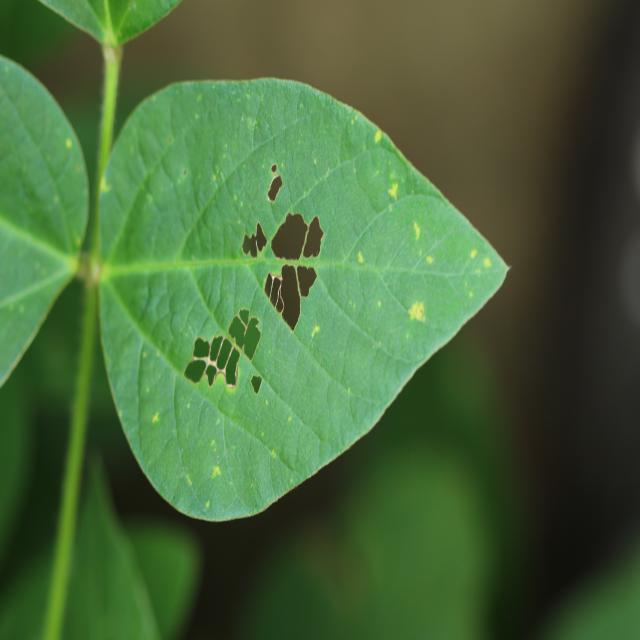Soybean: (0, 55, 510, 526)
downey_mildew: (99, 92, 274, 465), (313, 6, 606, 167), (42, 45, 120, 632), (299, 173, 493, 395), (18, 4, 190, 252), (316, 441, 497, 637), (1, 52, 88, 383), (179, 105, 349, 266), (232, 277, 372, 455), (397, 340, 516, 520), (58, 454, 171, 636), (171, 378, 289, 518), (255, 83, 452, 160), (8, 243, 298, 291), (229, 532, 353, 638), (522, 529, 640, 636), (115, 261, 221, 380), (122, 78, 308, 145), (361, 194, 484, 294), (315, 260, 413, 373), (278, 156, 378, 255), (50, 279, 99, 481), (122, 517, 203, 638), (115, 151, 200, 265), (0, 511, 76, 637), (380, 264, 489, 348), (1, 371, 39, 589), (334, 106, 412, 208), (168, 97, 250, 194), (0, 216, 75, 321), (245, 86, 324, 181), (0, 2, 93, 80), (251, 387, 325, 478), (5, 145, 73, 240), (267, 324, 337, 416), (193, 262, 262, 347), (93, 44, 121, 241), (101, 281, 147, 398), (377, 190, 427, 295), (31, 310, 87, 401), (442, 210, 505, 279), (189, 75, 332, 105), (340, 198, 403, 266), (97, 170, 140, 269), (137, 336, 175, 439), (222, 472, 311, 515), (132, 115, 181, 192), (185, 331, 243, 391), (105, 0, 186, 42), (30, 2, 119, 40), (241, 426, 283, 506), (251, 260, 406, 278), (108, 258, 245, 278), (463, 242, 509, 298), (138, 274, 178, 332), (183, 497, 268, 522), (165, 292, 202, 347), (270, 211, 309, 261), (156, 436, 187, 496), (80, 245, 117, 295), (406, 236, 451, 275), (170, 471, 198, 524), (279, 264, 301, 331), (306, 397, 338, 443), (348, 390, 382, 432), (399, 265, 494, 280), (272, 434, 307, 474), (204, 432, 229, 483), (205, 158, 235, 198), (98, 2, 121, 46), (302, 215, 325, 259), (243, 318, 262, 361), (202, 372, 226, 405), (467, 250, 493, 278), (296, 264, 317, 298), (223, 346, 240, 385), (216, 337, 234, 372), (228, 315, 246, 346), (184, 359, 207, 383), (269, 272, 282, 308), (254, 222, 268, 254), (387, 169, 401, 201), (210, 335, 225, 362), (86, 260, 102, 285), (193, 336, 210, 359), (102, 43, 118, 65), (205, 363, 218, 387), (242, 233, 255, 257), (213, 367, 228, 386), (250, 374, 262, 394), (155, 2, 170, 17), (99, 176, 111, 194), (239, 308, 250, 326), (176, 168, 188, 184), (275, 293, 284, 313), (501, 261, 512, 275), (413, 221, 421, 240), (311, 325, 320, 338), (212, 465, 221, 478), (388, 185, 397, 197), (247, 117, 256, 128), (483, 257, 491, 269), (374, 129, 381, 142), (186, 473, 193, 486), (357, 251, 364, 264), (469, 249, 477, 260), (152, 413, 160, 424), (65, 138, 72, 148), (270, 448, 277, 457), (75, 237, 81, 247), (147, 194, 153, 204), (271, 163, 277, 173), (131, 2, 137, 11), (4, 66, 10, 74), (197, 94, 203, 102), (210, 439, 216, 447), (19, 305, 25, 313), (76, 165, 82, 172), (168, 137, 173, 145), (468, 290, 473, 298), (182, 168, 187, 176), (212, 174, 217, 182), (377, 300, 382, 308), (205, 500, 210, 508), (173, 427, 177, 436), (388, 205, 393, 212), (246, 91, 251, 98), (194, 113, 199, 120), (290, 476, 294, 484), (143, 350, 147, 358), (191, 253, 196, 259), (216, 418, 220, 425), (187, 402, 191, 409), (265, 368, 269, 375), (265, 399, 269, 406), (313, 158, 317, 165), (288, 415, 292, 422), (240, 201, 244, 207), (347, 387, 351, 393), (261, 431, 265, 437), (250, 483, 254, 489), (351, 118, 354, 125), (234, 194, 237, 200)
